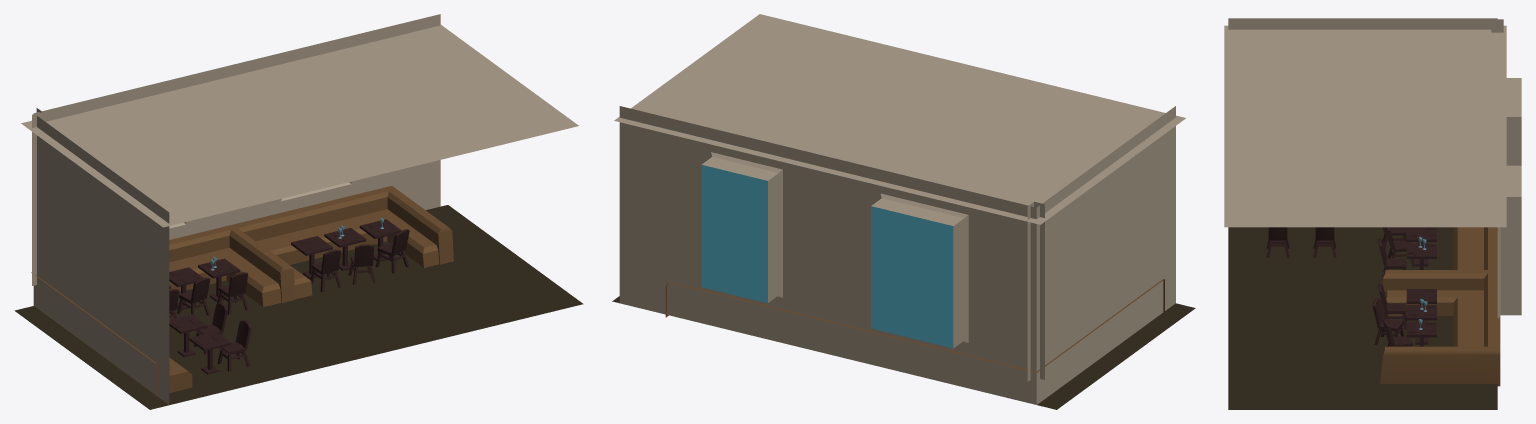
Rendered from Restaurant.fbx.
3 renders of one model, left to right at view 1: azimuth 30°, elevation 25°; view 2: azimuth 150°, elevation 25°; view 3: azimuth 270°, elevation 25°, orthographic. The views are drawn at different scales.
Visible parts, largest first — view 1: polySurface85; view 2: polySurface85; view 3: polySurface85.
Part boxes in pixels (left/top/right/bottom): polySurface85: left=14, top=14, right=583, bottom=409; polySurface85: left=612, top=14, right=1195, bottom=409; polySurface85: left=1224, top=18, right=1521, bottom=409.
Bounding box in the file's own units: 440 × 191 × 263.
